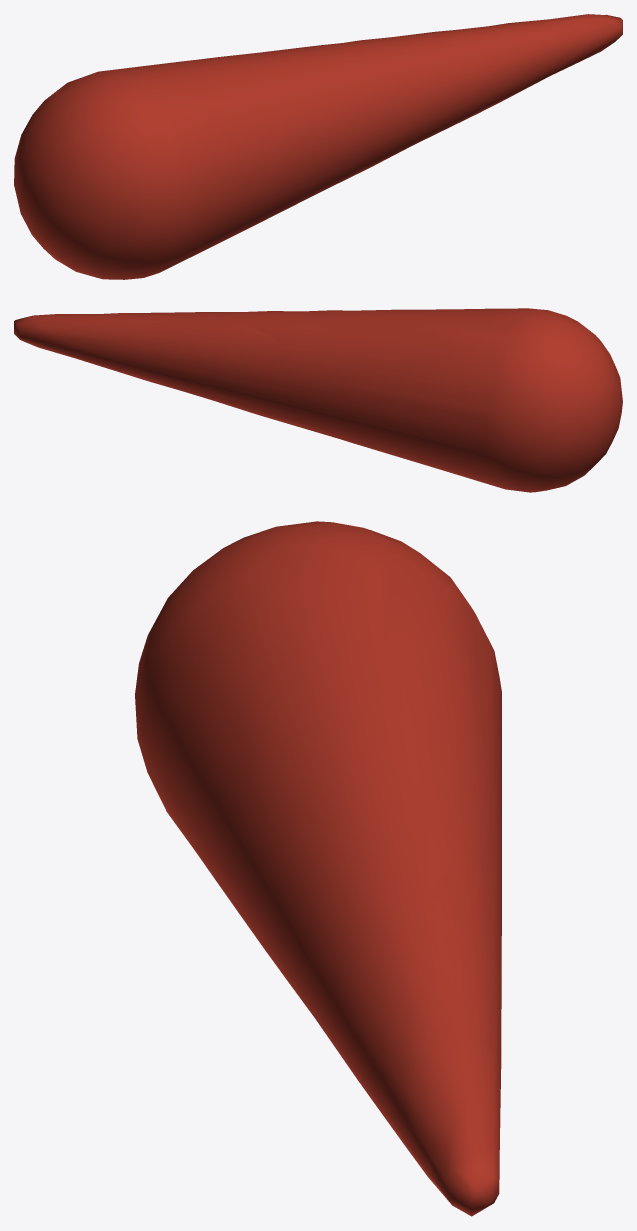
Rendered from trai_ot.glb.
The picture shows the model from 3 angles, top to bottom: view 1: azimuth 30°, elevation 25°; view 2: azimuth 150°, elevation 25°; view 3: azimuth 270°, elevation 25°; orthographic projection. The views are drawn at different scales.
Visible parts, largest first — view 1: trai_ot; view 2: trai_ot; view 3: trai_ot.
Part boxes in pixels (<box>): trai_ot: <box>14,14,622,279</box>; trai_ot: <box>14,308,622,492</box>; trai_ot: <box>135,521,501,1216</box>.
Size of the model in its own units: 0.0835 by 0.0238 by 0.0238.
